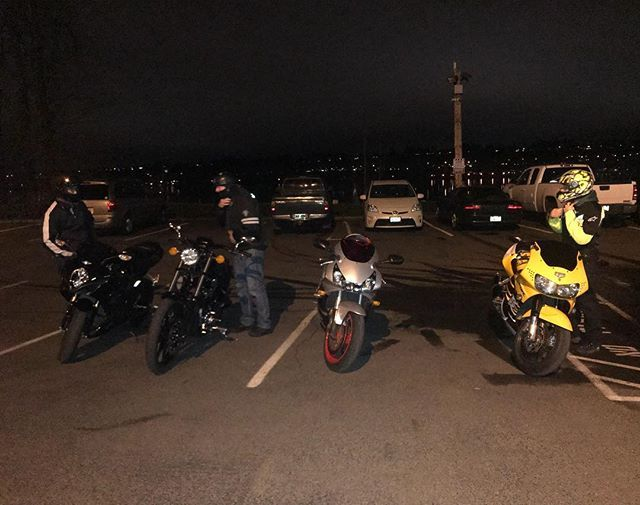bike: (48, 233, 157, 360), (504, 234, 588, 375), (161, 232, 244, 373), (314, 231, 396, 360)
car: (520, 161, 638, 206), (359, 175, 429, 233), (269, 175, 335, 230), (444, 183, 522, 228), (92, 178, 154, 224)
